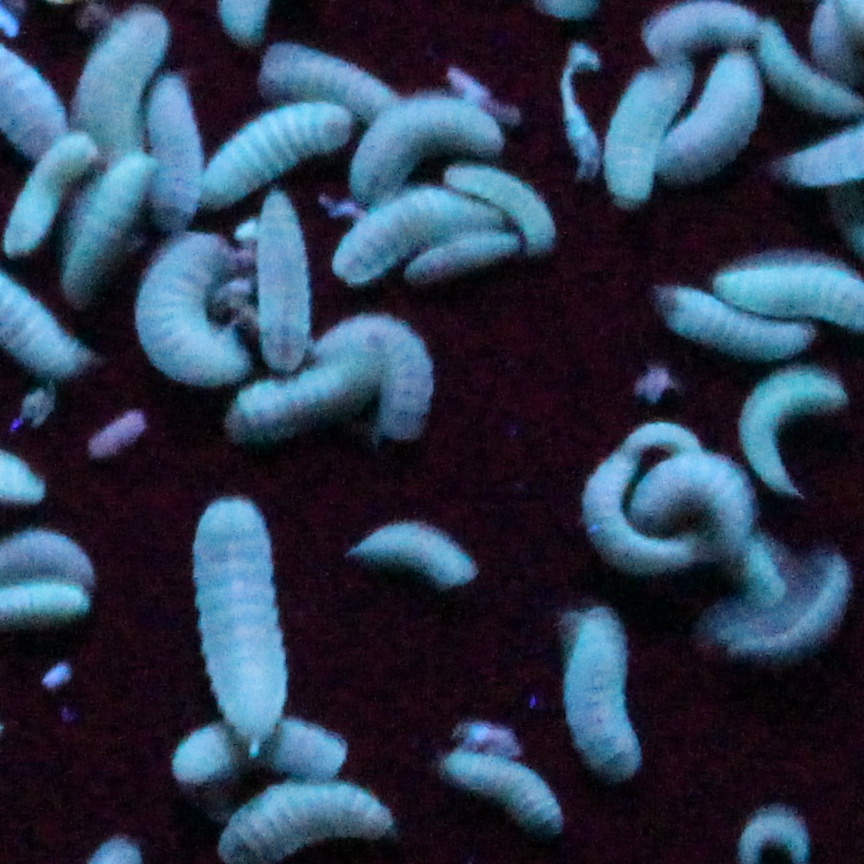larve: (184, 497, 292, 744), (125, 238, 250, 382), (337, 191, 505, 287), (315, 305, 433, 438), (196, 107, 345, 207), (70, 11, 168, 162), (349, 99, 503, 195), (60, 156, 158, 305), (741, 362, 849, 493), (601, 60, 696, 207), (564, 605, 645, 776), (629, 452, 762, 556), (233, 356, 380, 446), (656, 54, 762, 178), (731, 558, 849, 664), (654, 283, 811, 362), (250, 187, 313, 370), (431, 750, 562, 838), (9, 136, 96, 256), (182, 725, 350, 787), (262, 48, 396, 125), (347, 515, 478, 589), (147, 76, 201, 227), (405, 231, 523, 287)
